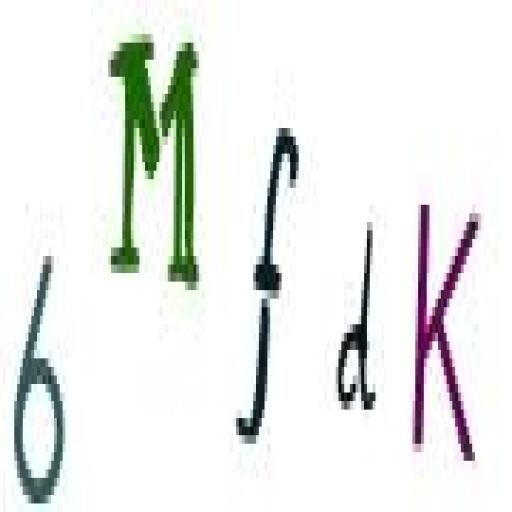6: (5, 242, 72, 512)
K: (412, 184, 490, 474)
M: (102, 14, 206, 306)
d: (333, 208, 381, 448)
f: (240, 114, 306, 473)
